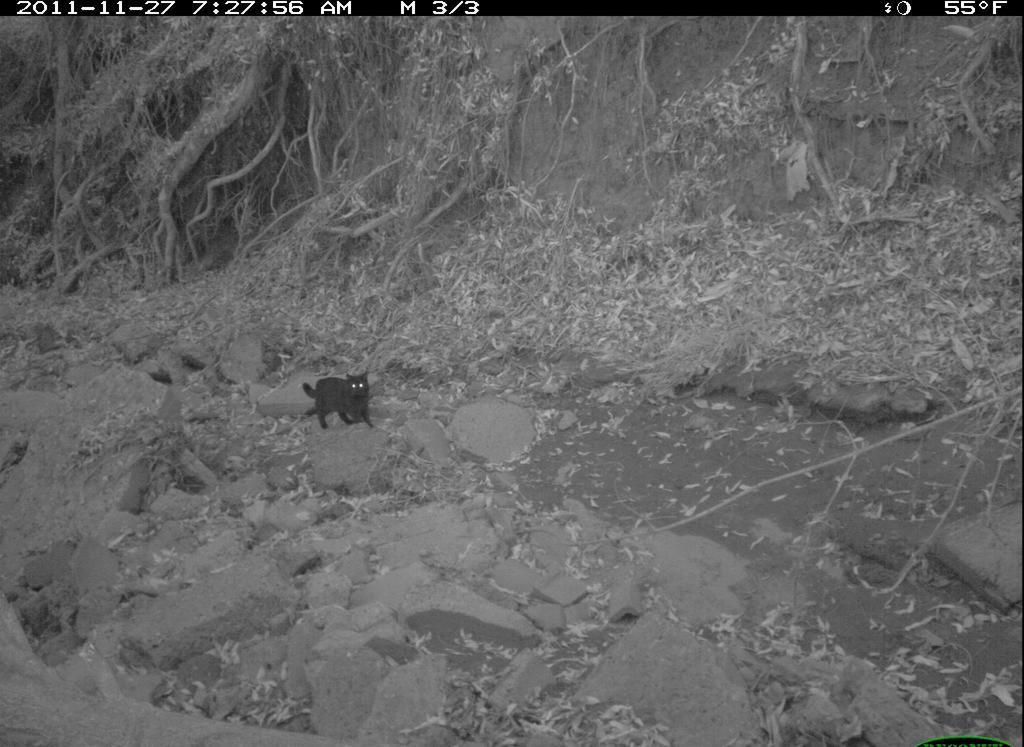cat: (268, 349, 409, 455)
